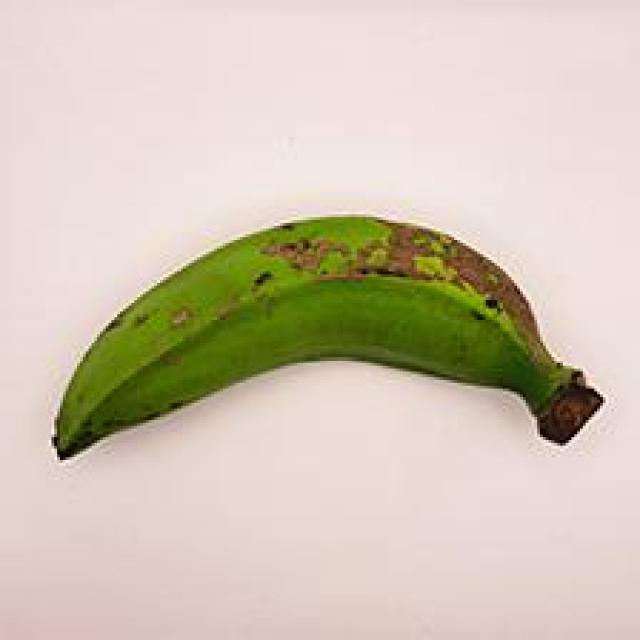Raw: (38, 182, 622, 520)
